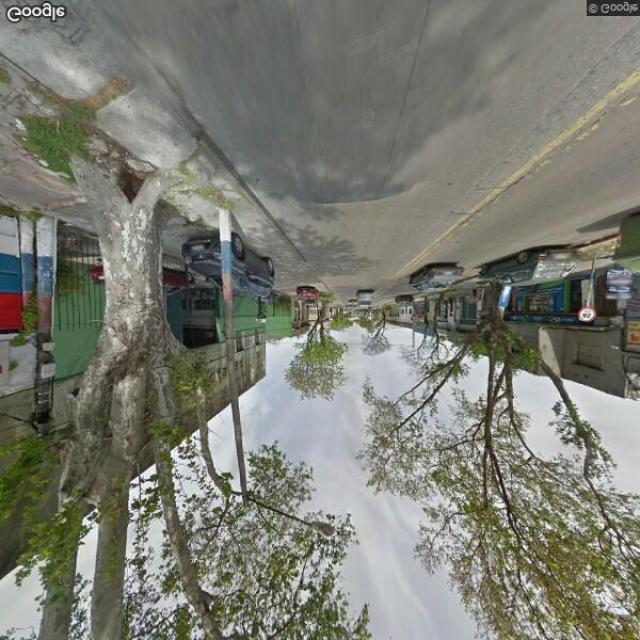garbage container: (607, 208, 640, 284)
